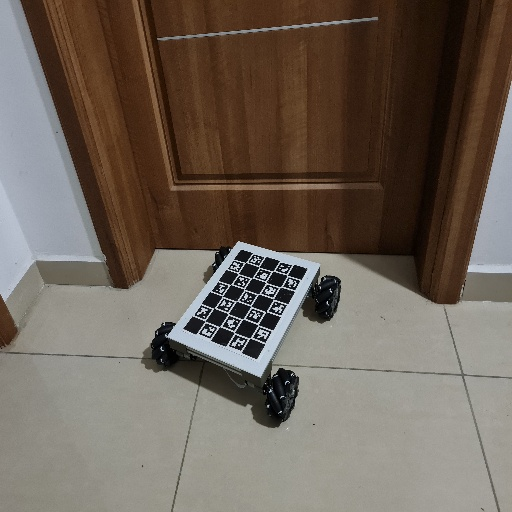Omniwheel: (150, 239, 343, 425)
